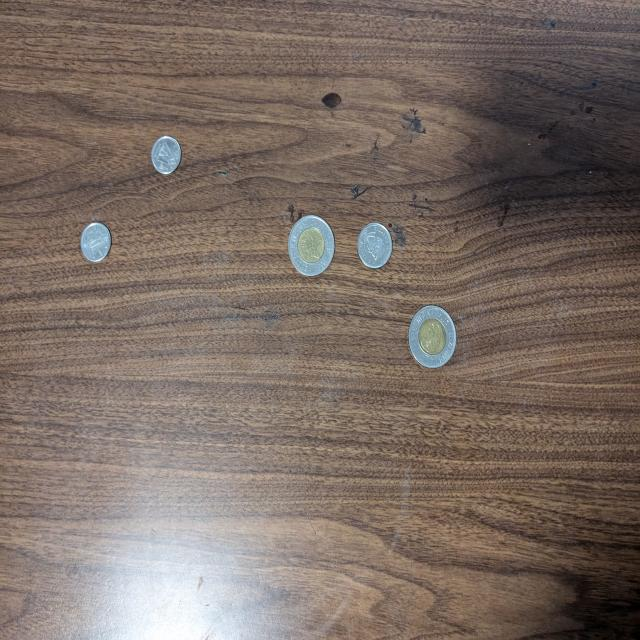dime: (80, 223, 114, 262), (150, 136, 182, 176)
nickel: (358, 222, 393, 270)
toonie: (407, 302, 458, 370), (288, 216, 336, 278)
